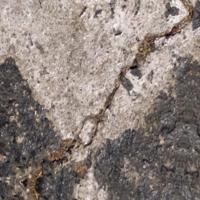crack: (35, 34, 150, 167)
